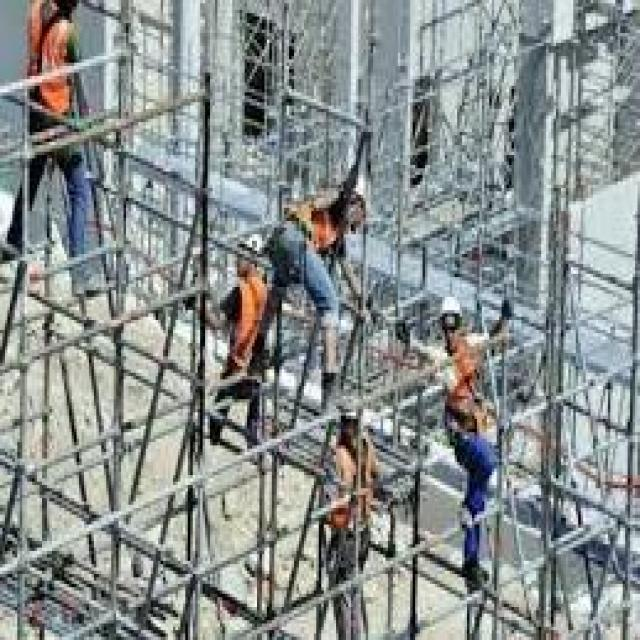Reflective-Jacket: (15, 0, 91, 119), (435, 330, 497, 449), (222, 267, 274, 376)
Safety-Helmet: (432, 287, 470, 330)
